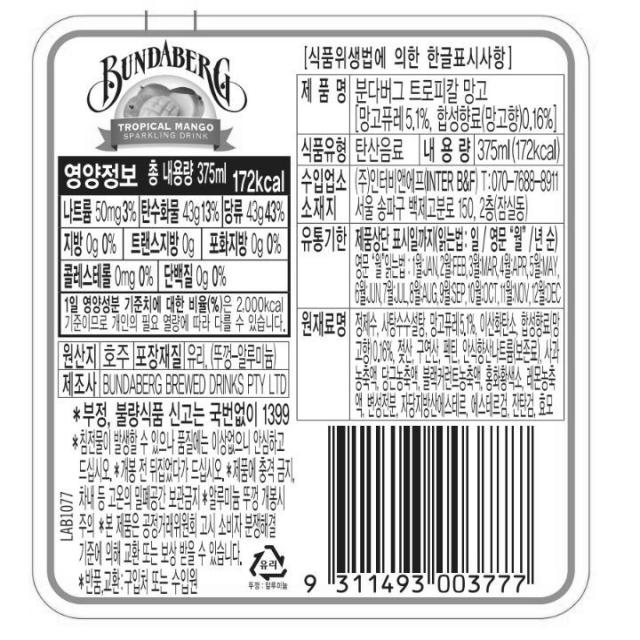Nutrition Label: (48, 149, 296, 351)
